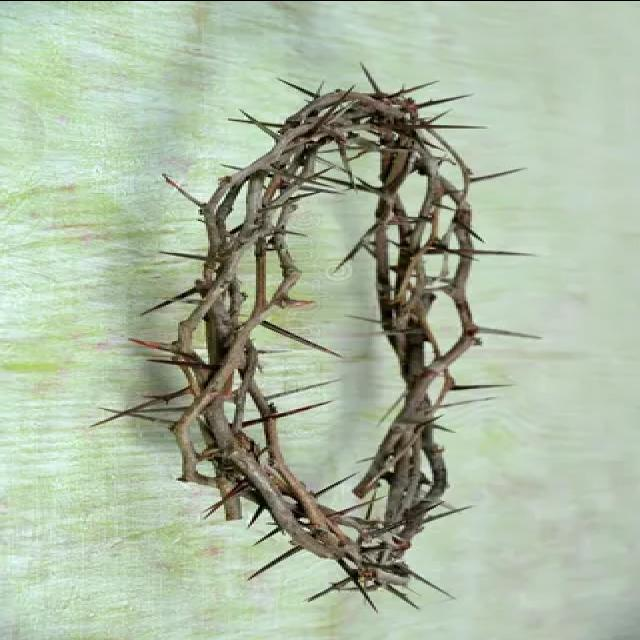crown: (154, 76, 518, 606)
